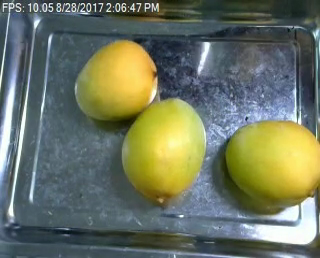Mango: (223, 119, 320, 209), (123, 96, 207, 199), (71, 39, 158, 122)
